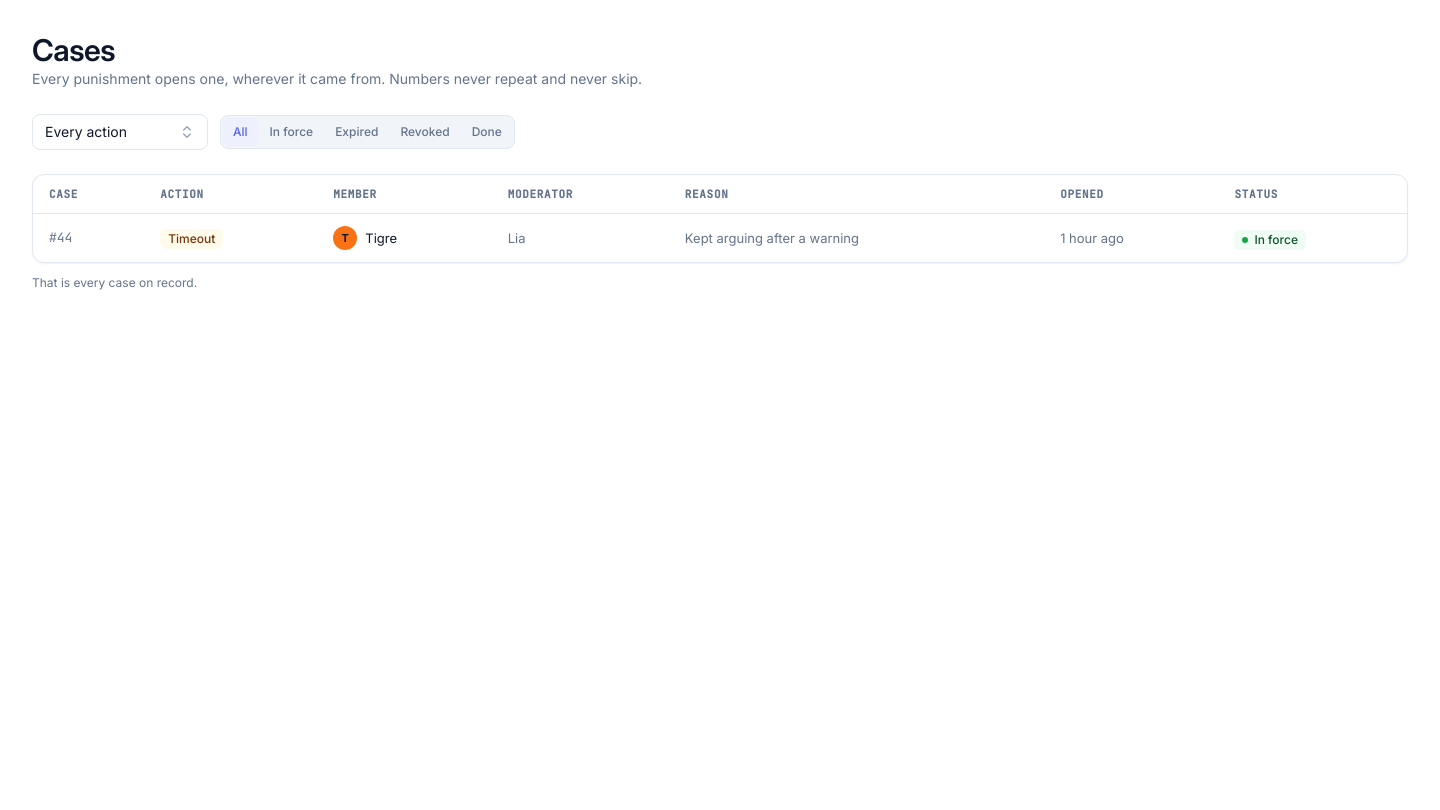
it: CasesScreen › tells a viewer why there is nothing to press
Click the button with aria-label "Open case 44" at [720, 238], box [33,214,1407,262]
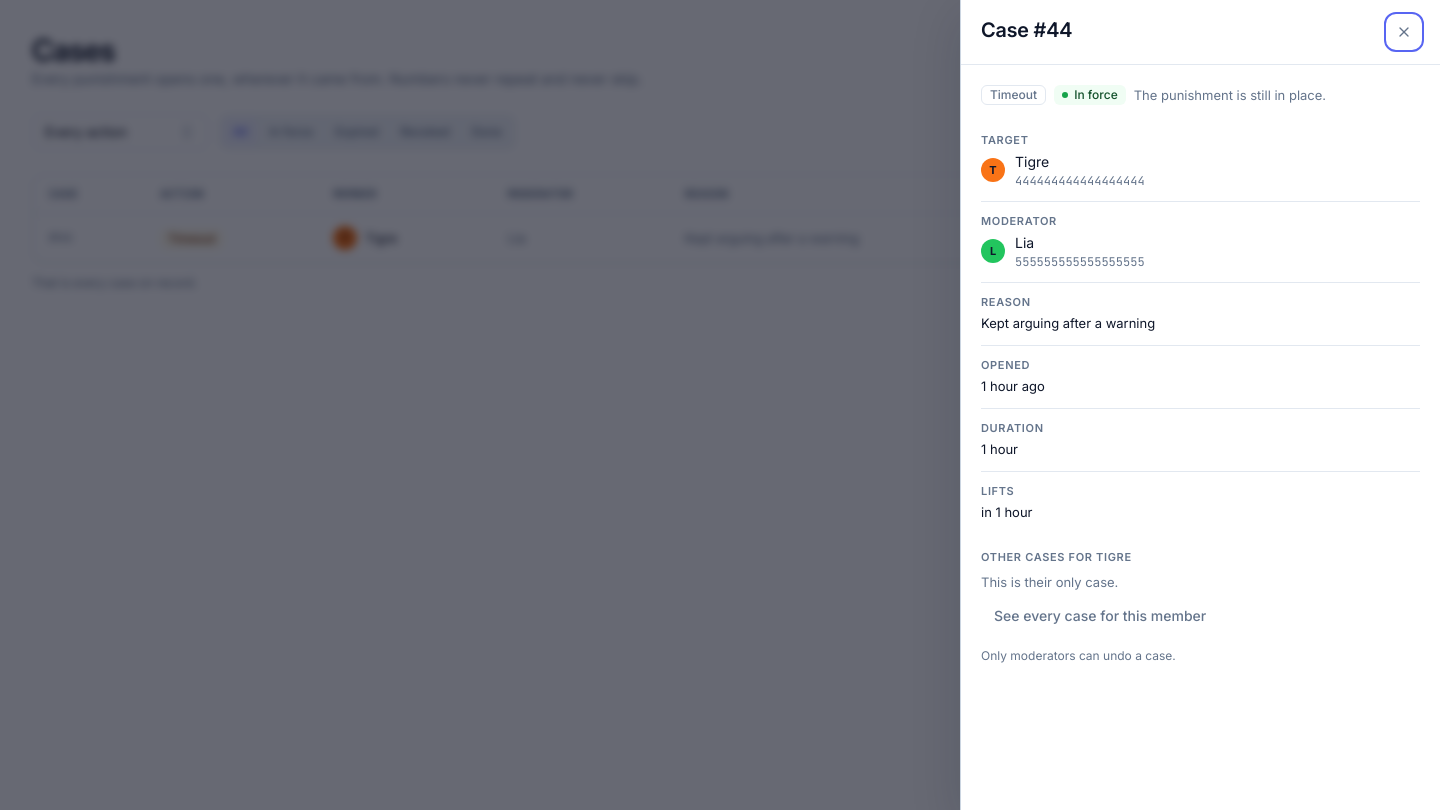
Now the text "Only moderators can undo a case." is shown, box [981,648,1176,663]
